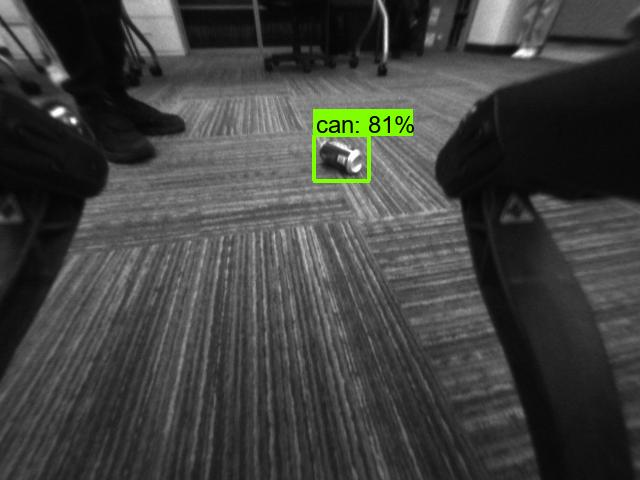can: (313, 133, 369, 176)
